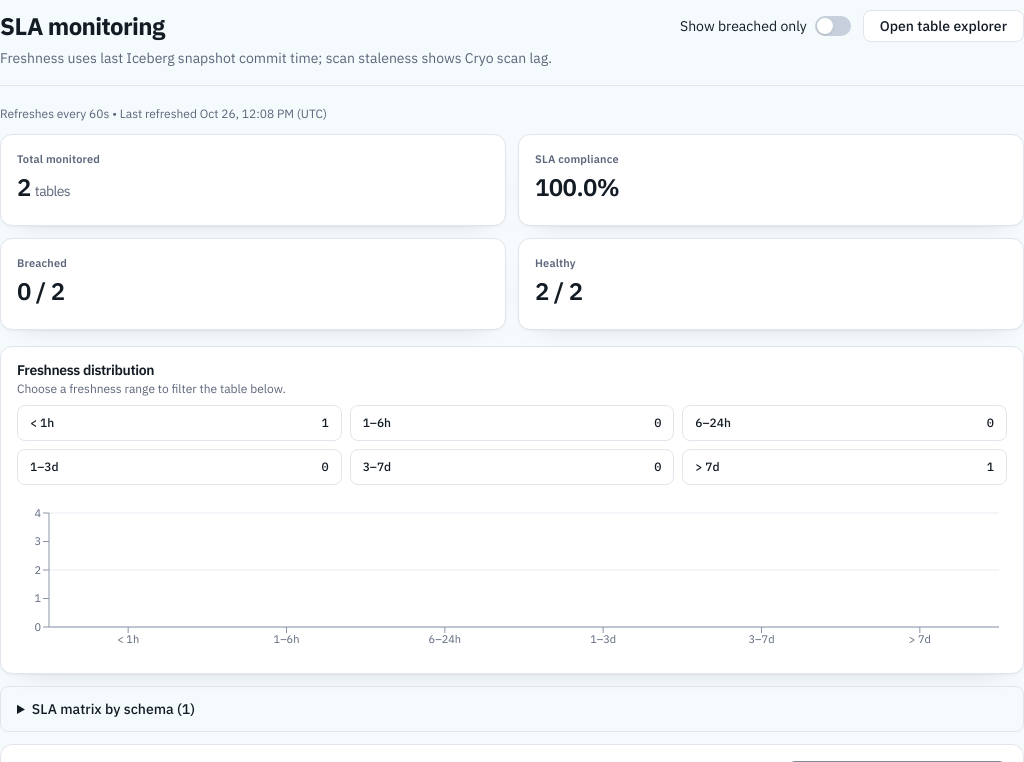
Test: SLAStatus page › offers keyboard-operable freshness filters with exact bucket counts
Expected: the heading "Freshness distribution" is shown, [17,361,154,379]
Expected: the text "Choose a freshness range to filter the table below." is shown, [17,381,286,397]
Click the button named "Filter to < 1h: 1 table" at (42, 422), box [17,405,342,441]
(page scrolled)
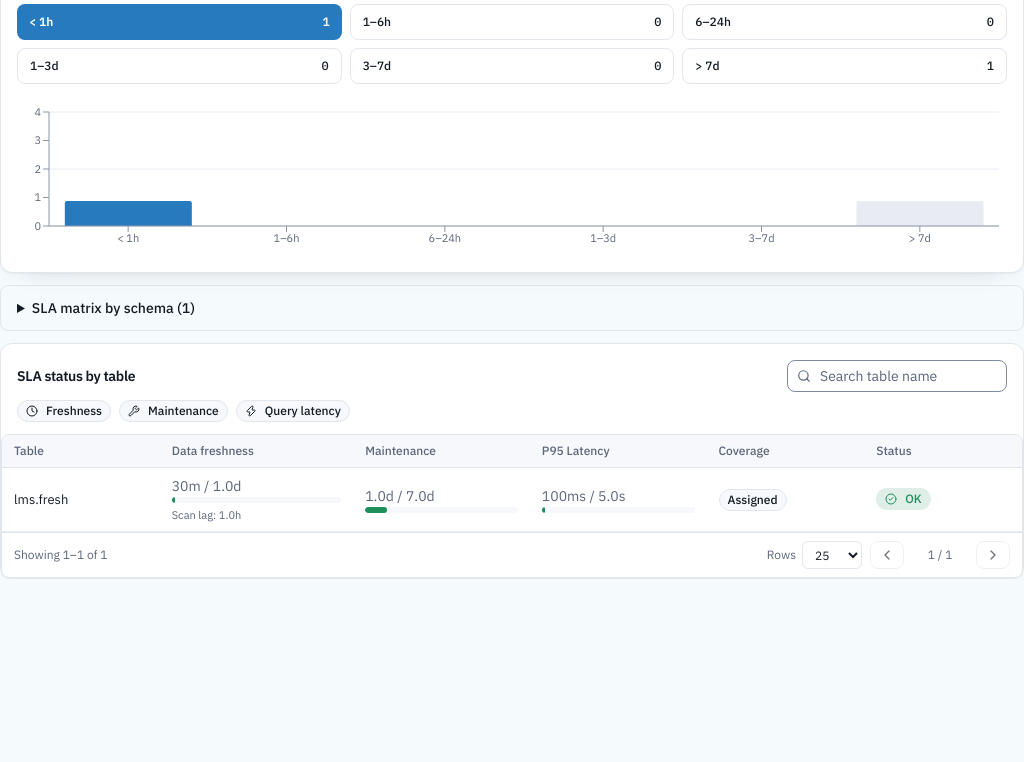
Expected: the link "lms.fresh" is shown, [14,491,68,508]
